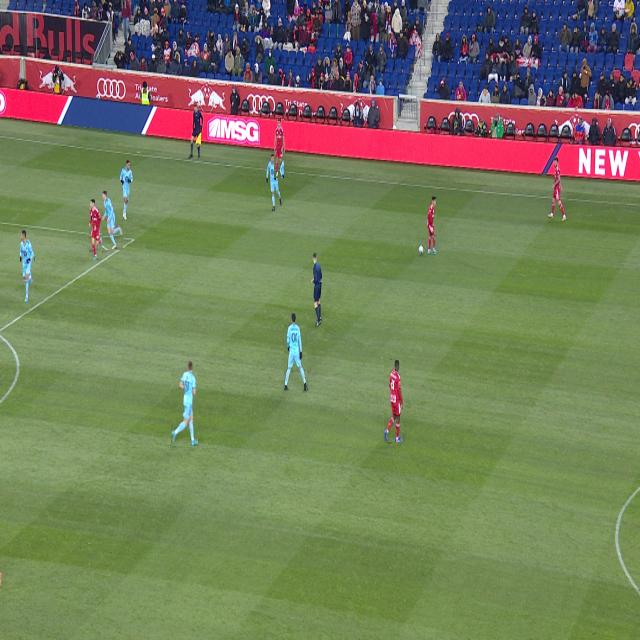football: (419, 245, 424, 255)
player: (172, 361, 198, 446), (285, 313, 307, 390), (385, 361, 403, 442), (102, 191, 123, 250), (548, 158, 566, 221), (20, 230, 34, 302), (266, 154, 281, 211), (89, 199, 102, 260), (120, 160, 133, 220), (427, 197, 437, 253), (275, 119, 284, 178)
referee: (311, 252, 322, 327)
